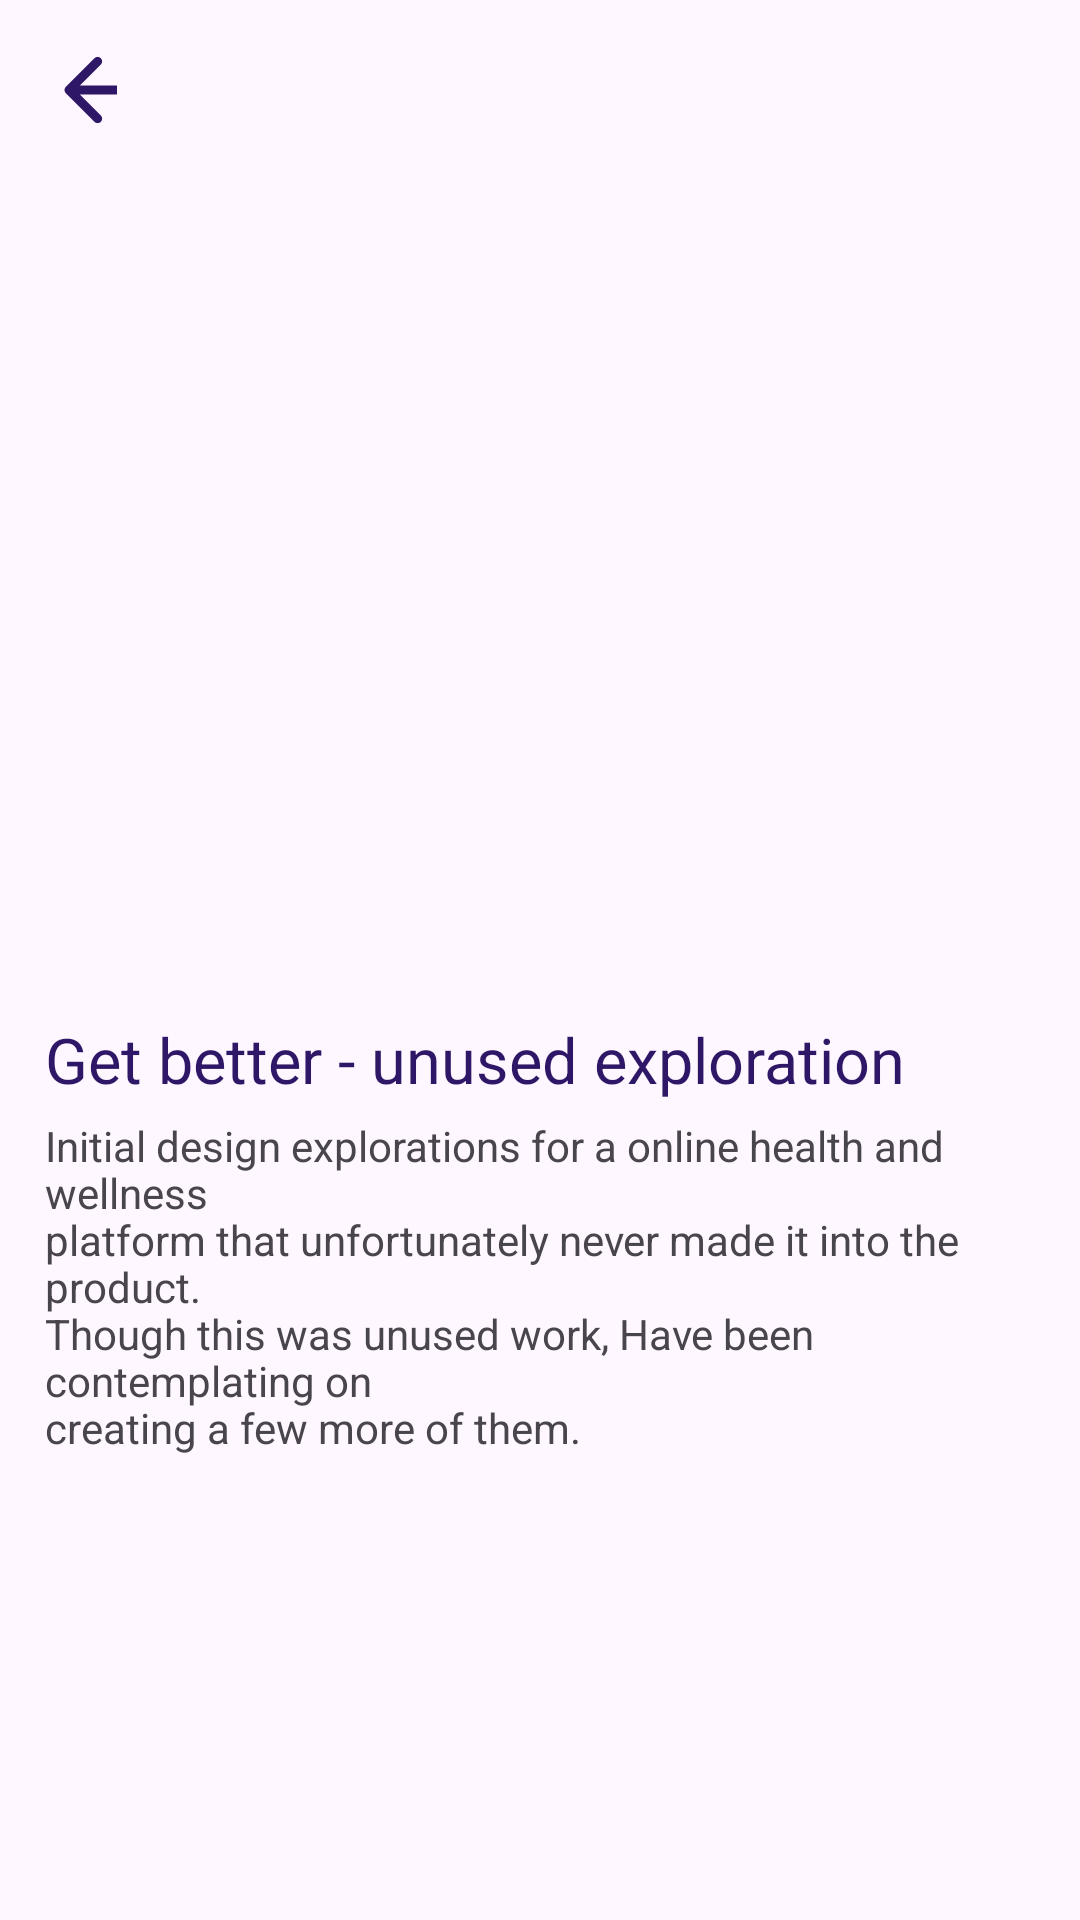

Icon click points for this 1080×1920 phone screenshot, format (x,y):
arrow back: (90,90)
